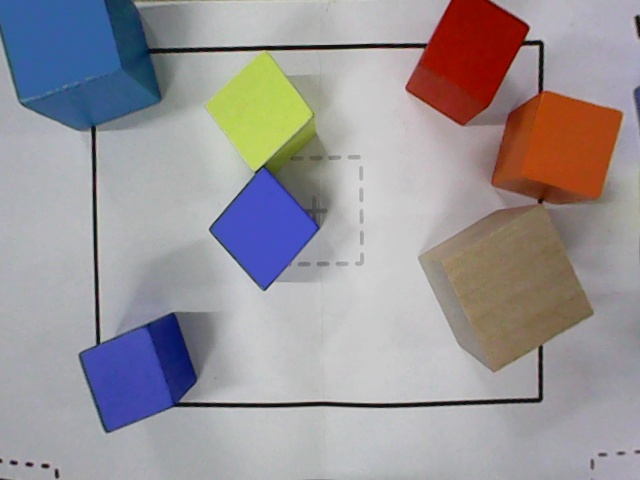upside of big cube: (443, 205, 595, 372), (0, 0, 121, 102)
upside of small cube: (209, 166, 319, 292), (205, 51, 315, 174), (419, 0, 530, 101), (524, 91, 624, 198), (80, 326, 175, 434)
